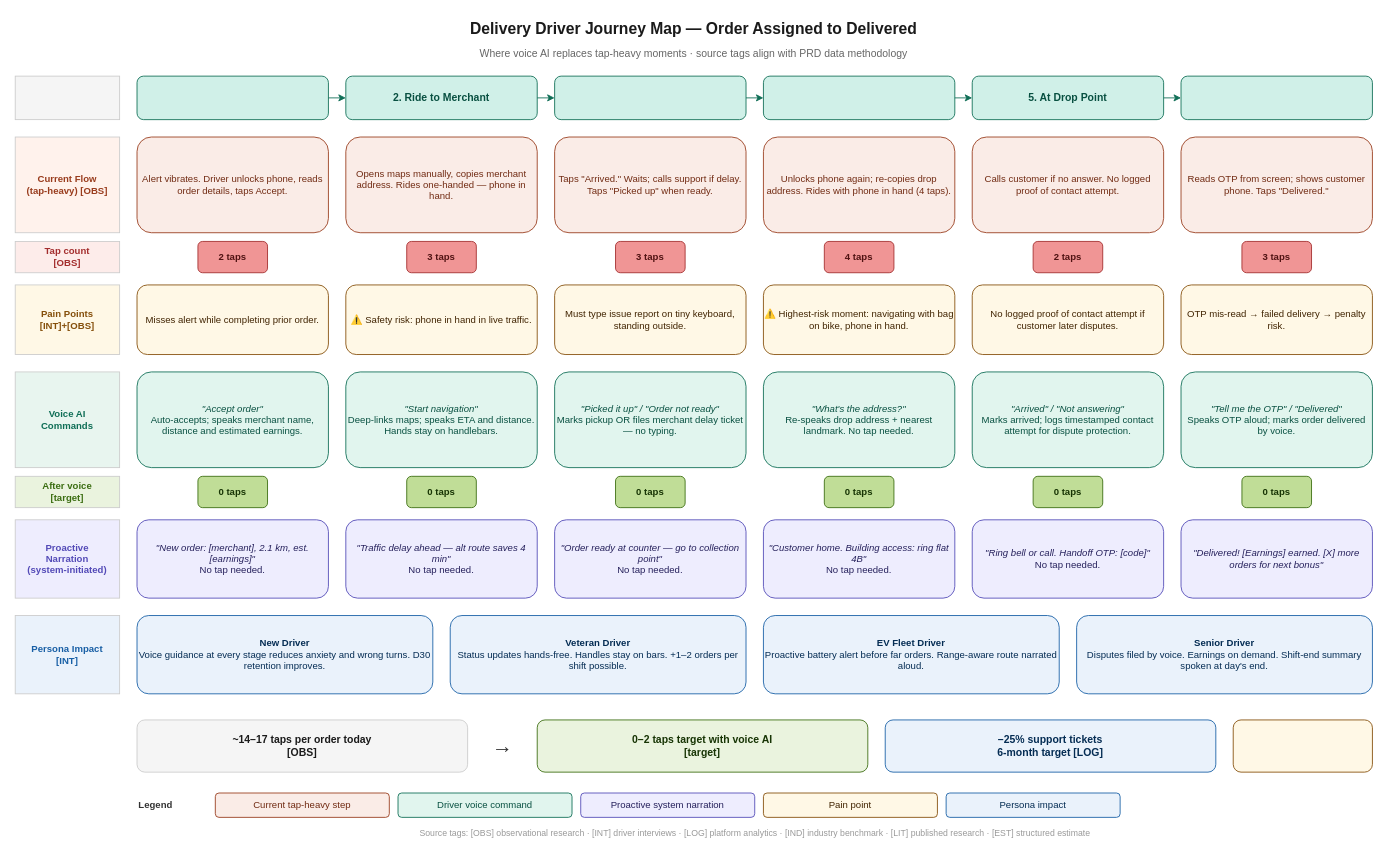
The diagram is 1388 pixels wide and 856 high, and some of its shapes have lost their labels. The box of each missing label's shape, as (x1, y1, x2, y2) in pixels:
1. Order Assigned: (136, 75, 328, 120)
3. At Merchant: (554, 75, 746, 120)
4. Ride to Drop Point: (763, 75, 955, 120)
6. Complete Order: (1180, 75, 1372, 120)
Stages: (14, 75, 120, 120)
–23% near-miss risk (device interactions while in motion) [LIT]: (1232, 719, 1372, 772)
